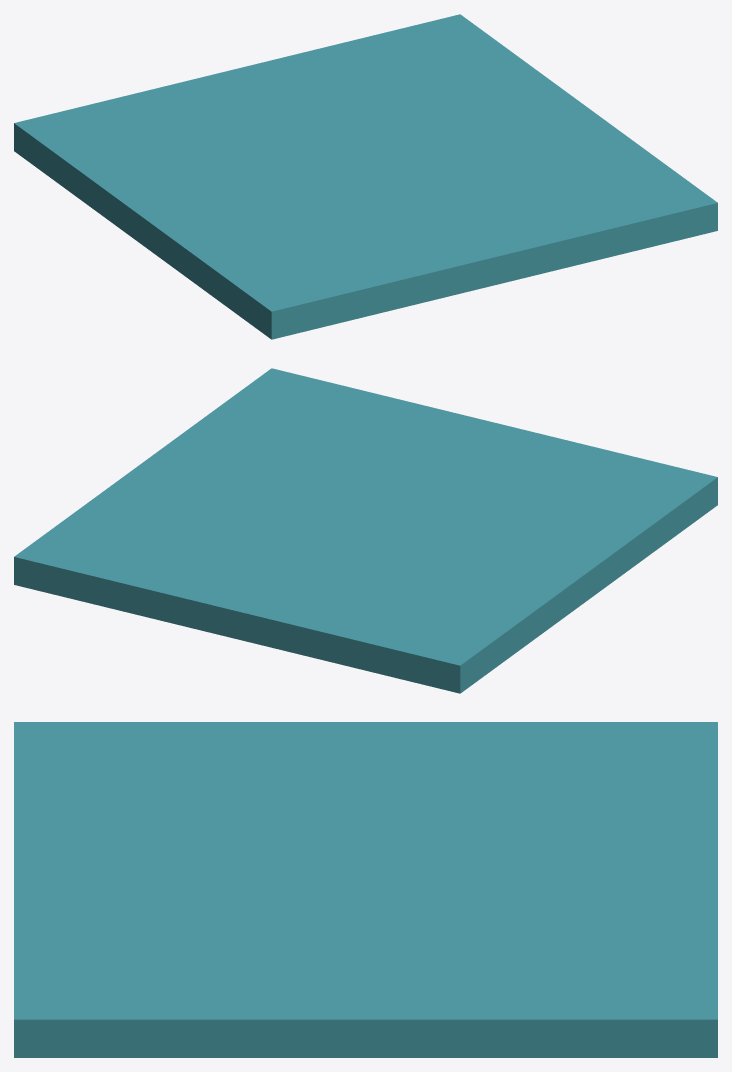
Rendered from W02_River_Straight_2m.fbx.
3 views of the same model, one above another, from view 1: azimuth 30°, elevation 25°; view 2: azimuth 150°, elevation 25°; view 3: azimuth 270°, elevation 25° (orthographic). The views are drawn at different scales.
Parts seen in each view (by area): view 1: W02_River_Straight_2m; view 2: W02_River_Straight_2m; view 3: W02_River_Straight_2m.
Boxes of the visible parts, bbox=[...] form: W02_River_Straight_2m: bbox=[14, 14, 717, 339]; W02_River_Straight_2m: bbox=[14, 368, 717, 693]; W02_River_Straight_2m: bbox=[14, 722, 717, 1057].
Bounding box in the file's own units: 2 × 0.12 × 2.
